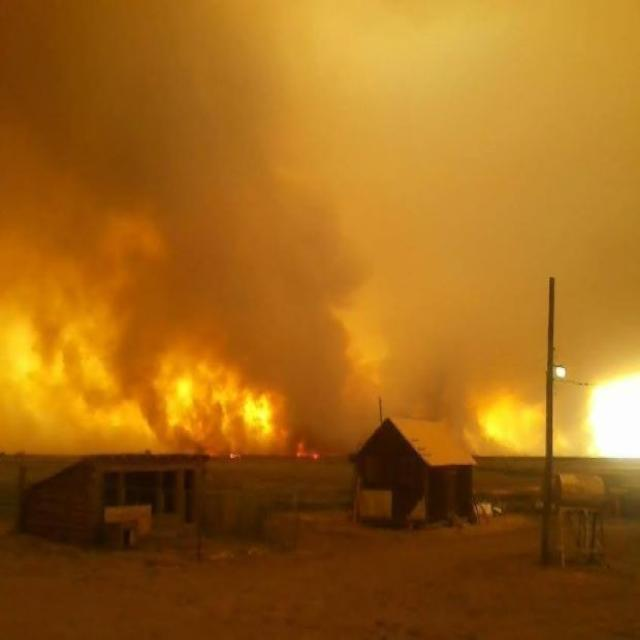Smoke: (0, 0, 413, 463), (389, 0, 640, 441)
